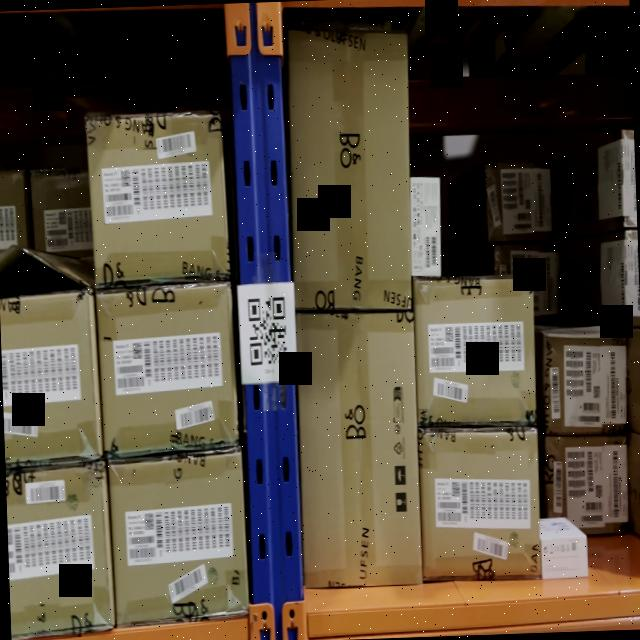box: (284, 24, 414, 314), (292, 304, 420, 577), (96, 284, 243, 453), (85, 111, 232, 278), (108, 456, 246, 619), (418, 425, 542, 582), (414, 276, 536, 434), (9, 462, 113, 633), (0, 290, 100, 452), (542, 330, 627, 430), (486, 162, 560, 238)
